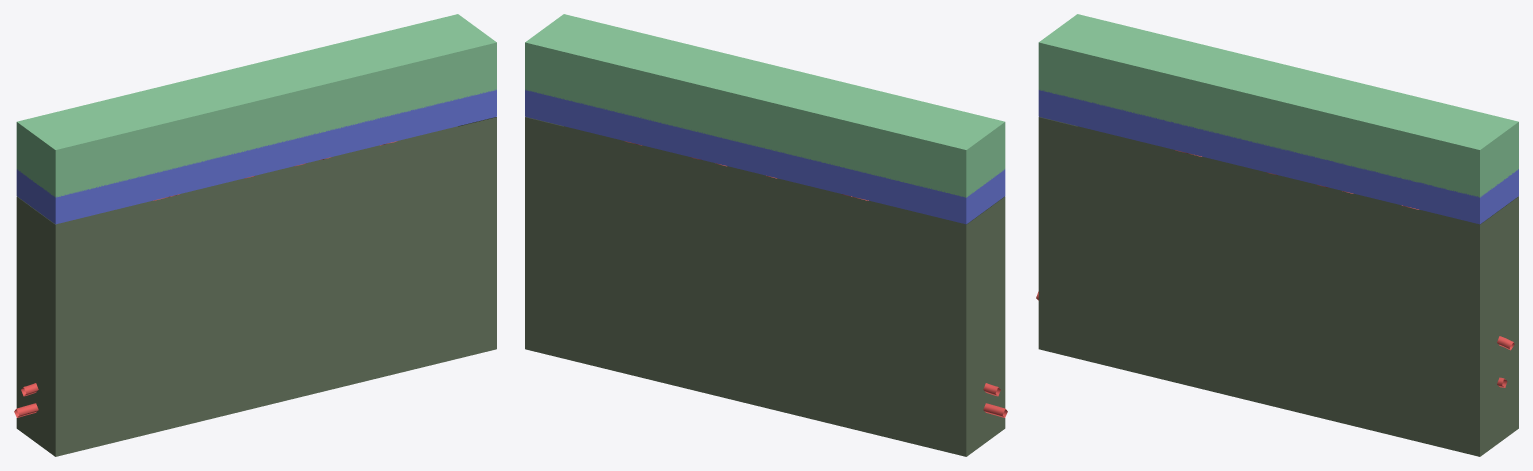
Rendered from Animation Oksigen Frog.fbx.
3 renders of one model, left to right at view 1: azimuth 30°, elevation 25°; view 2: azimuth 150°, elevation 25°; view 3: azimuth 330°, elevation 25°, orthographic.
Visible parts, largest first — view 1: Cube.004; view 2: Cube.004; view 3: Cube.004.
Part boxes in pixels (x1,y1,x2,y2): Cube.004: (16,14,496,456); Cube.004: (525,14,1005,456); Cube.004: (1038,14,1518,456).
Size of the model in its own units: 1030 by 636 by 146.
